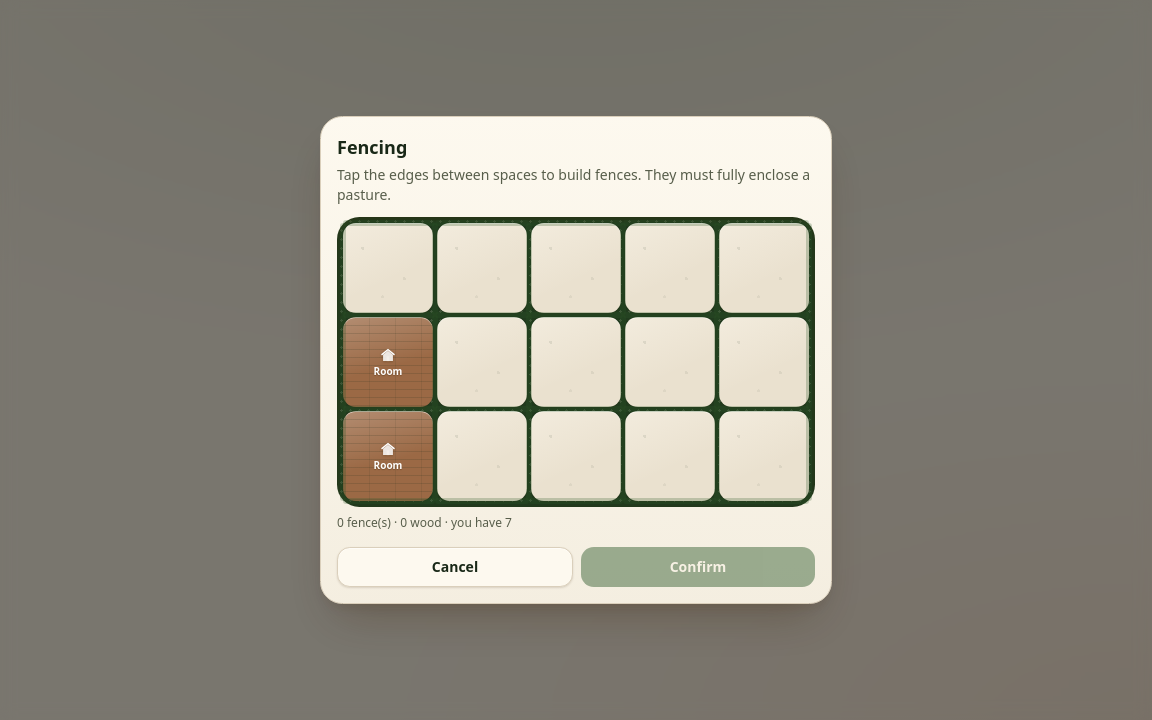
Scenario: fencing › shows the running wood cost against what the player holds
Click the button named "Fence above space 1": x=389, y=223 [343,220,435,226]
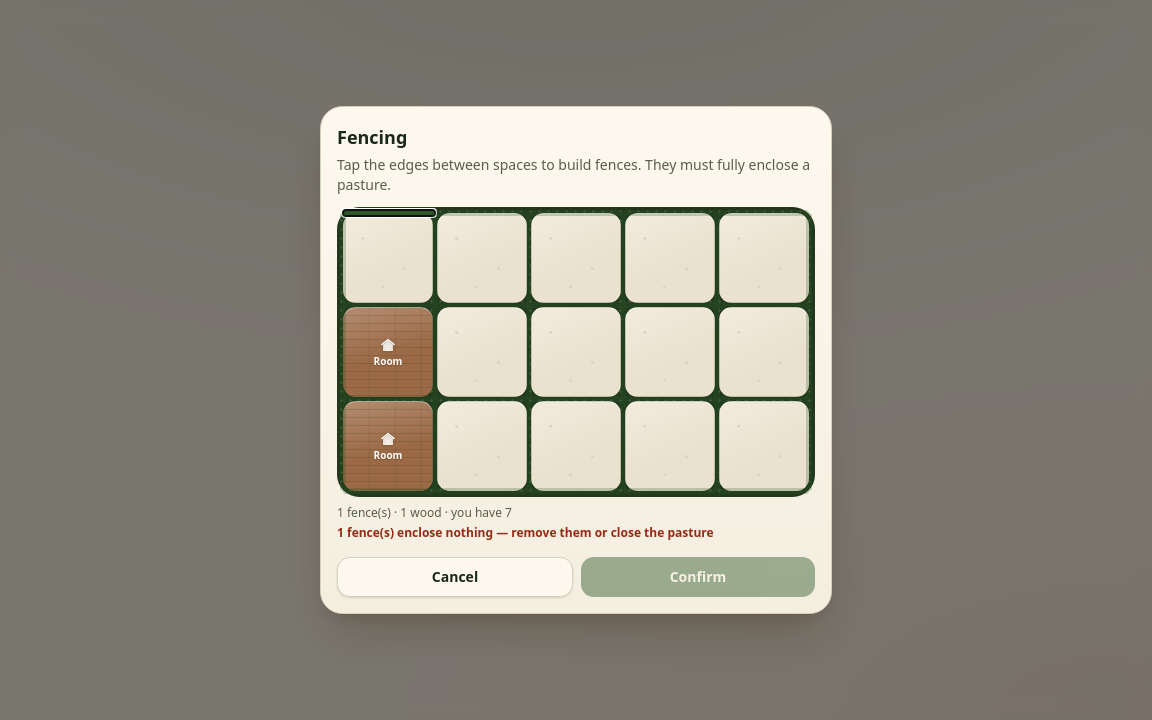
expect the text "1 fence(s) · 1 wood · you have 7" is shown: met, box [337,504,512,521]
